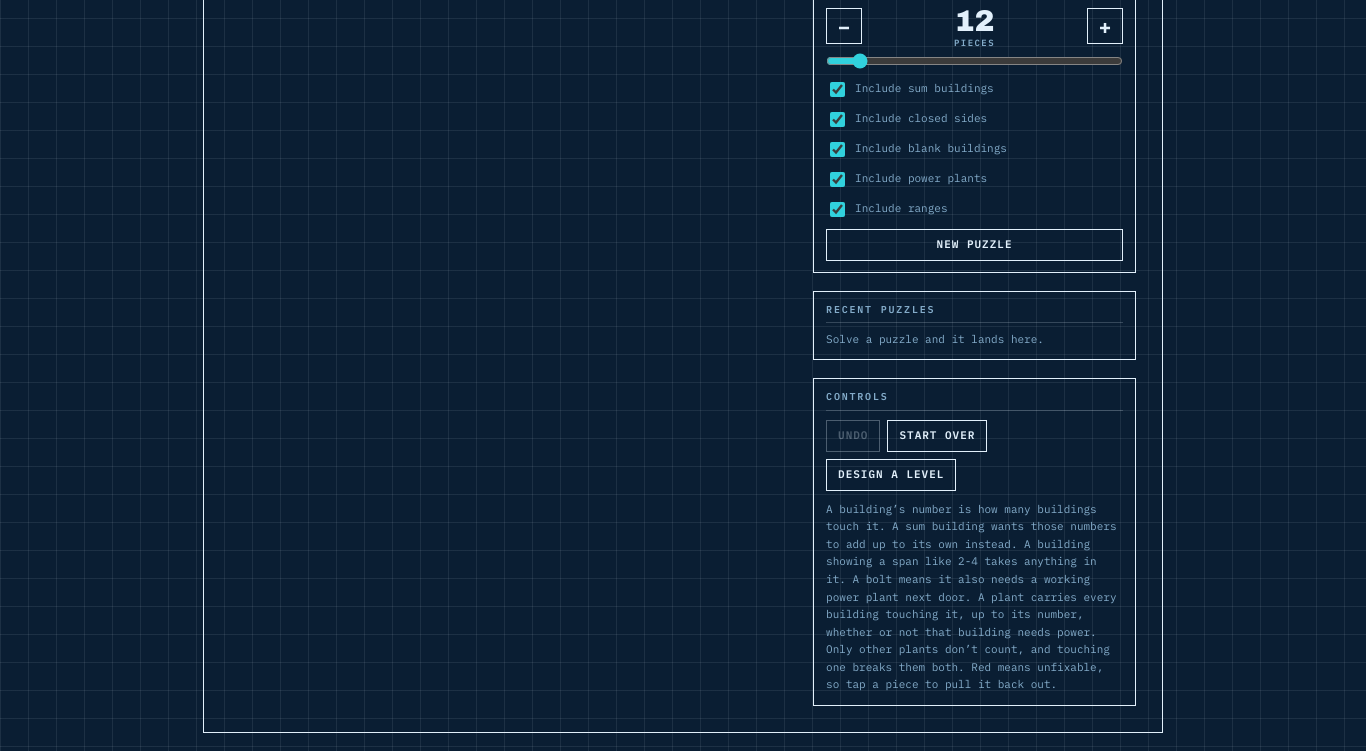
Scenario: App › swaps the sidebar and the tools when the designer opens
(page scrolled)
Check: the text "Your design" is not shown
Click the button "Design a level".
click(891, 475)  # box x1=826 y1=459 x2=956 y2=490
(page scrolled)
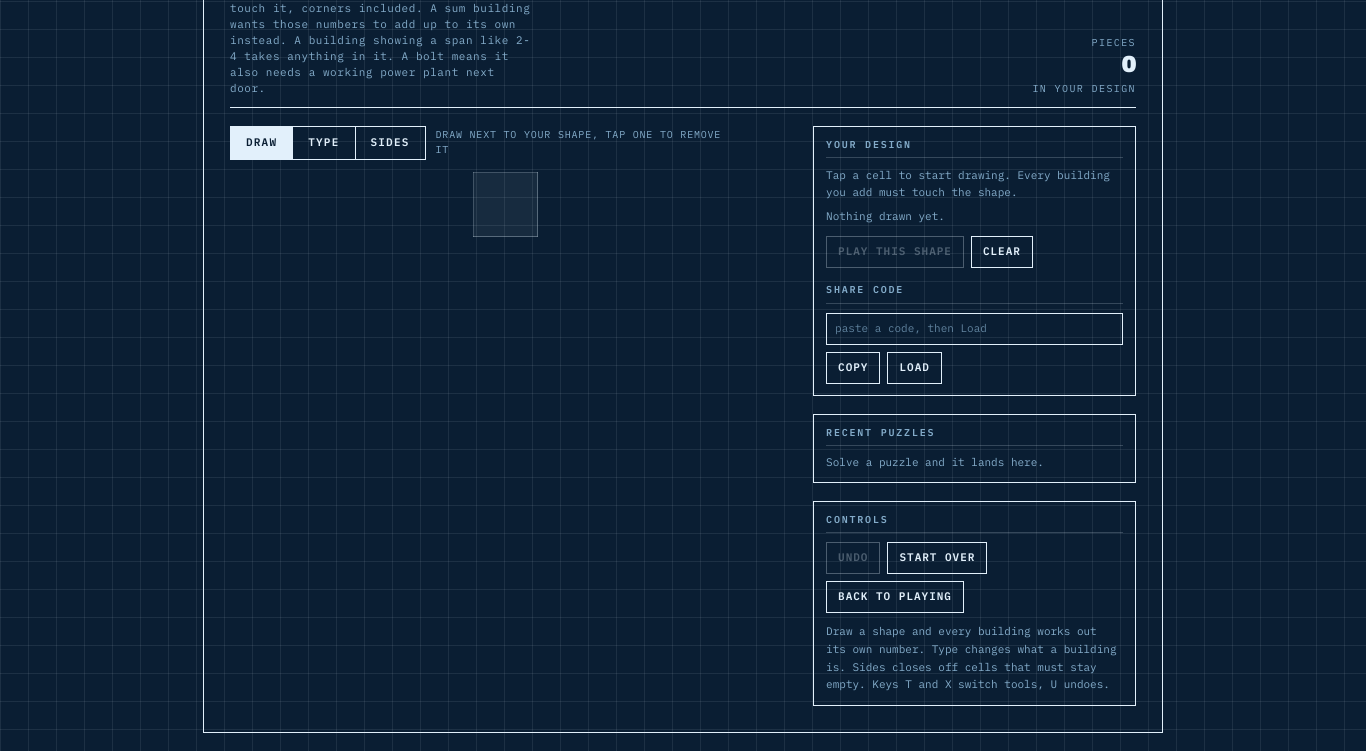
Check: the heading "Your design" is shown, box x1=826 y1=138 x2=1123 y2=158
Check: the button "Draw" is shown, box x1=231 y1=127 x2=292 y2=159
Click the button "Back to playing".
click(895, 597)  # box x1=826 y1=581 x2=964 y2=613
(page scrolled)
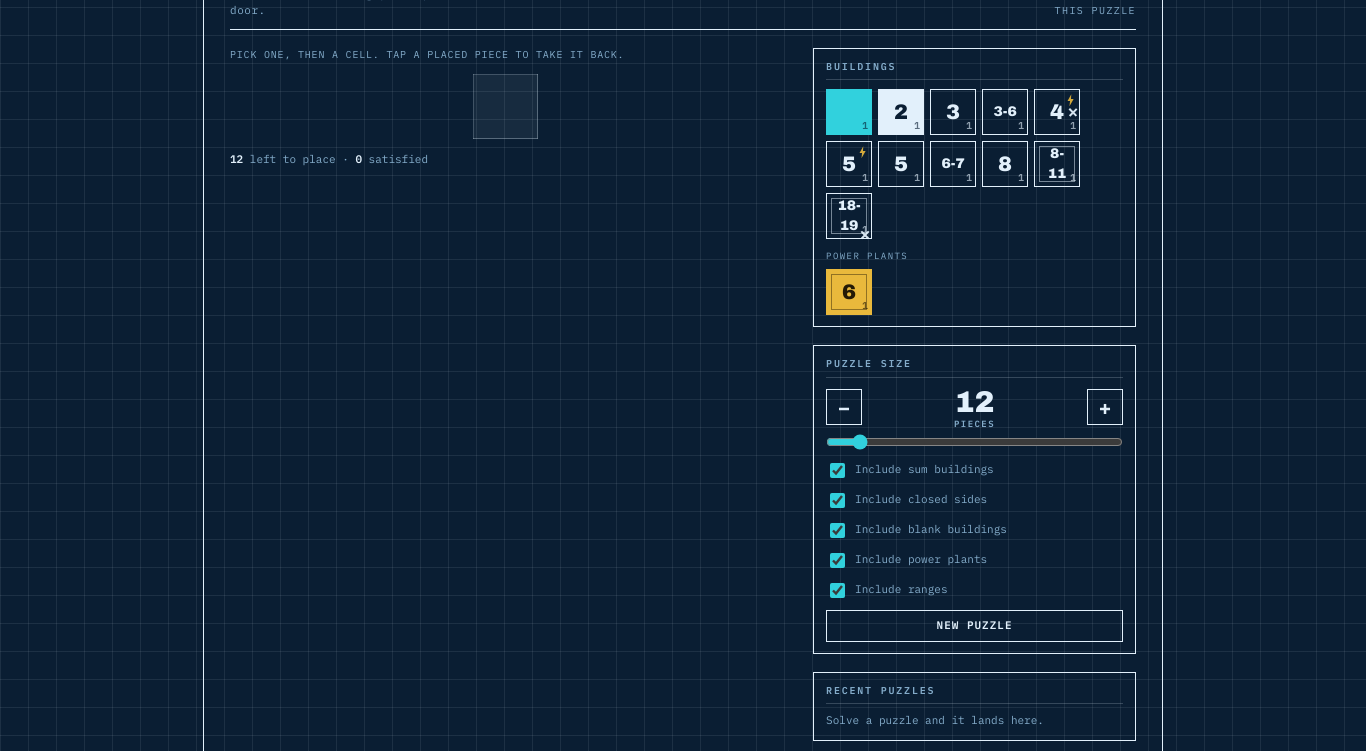
Check: the heading "Puzzle size" is shown, box x1=826 y1=357 x2=1123 y2=378
